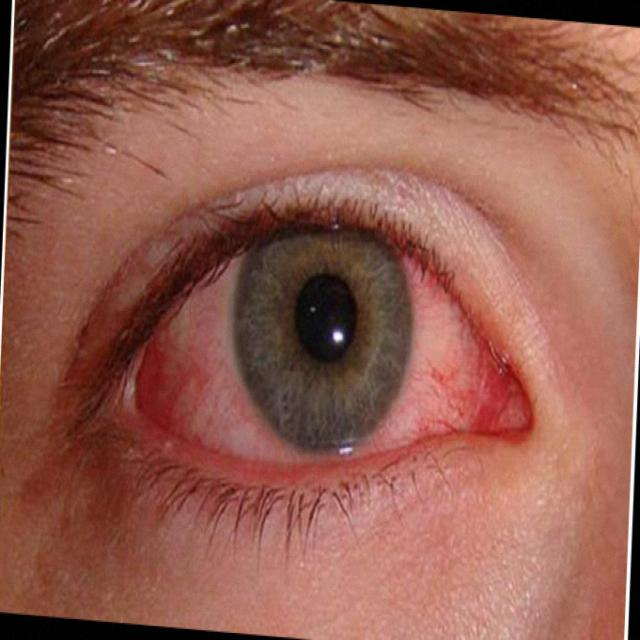Keratitis: (80, 147, 548, 530)
